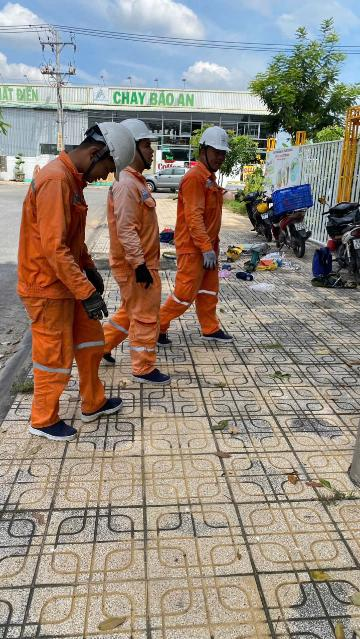gloves: (69, 274, 110, 323), (125, 256, 165, 296), (78, 263, 106, 300), (194, 236, 225, 269)
helmet: (93, 110, 135, 180), (194, 111, 243, 159), (118, 104, 154, 145)
shoes: (28, 415, 81, 449), (193, 317, 246, 350), (138, 359, 178, 390), (75, 398, 129, 418), (140, 323, 176, 350), (94, 340, 117, 367)
